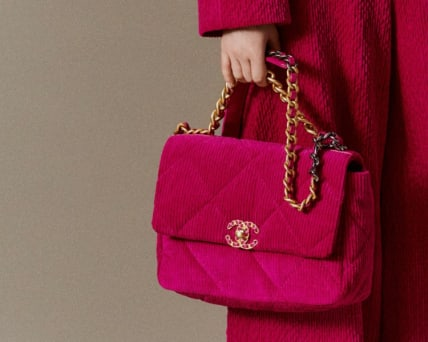channel: (150, 120, 376, 313), (303, 134, 344, 216), (209, 214, 263, 259)
